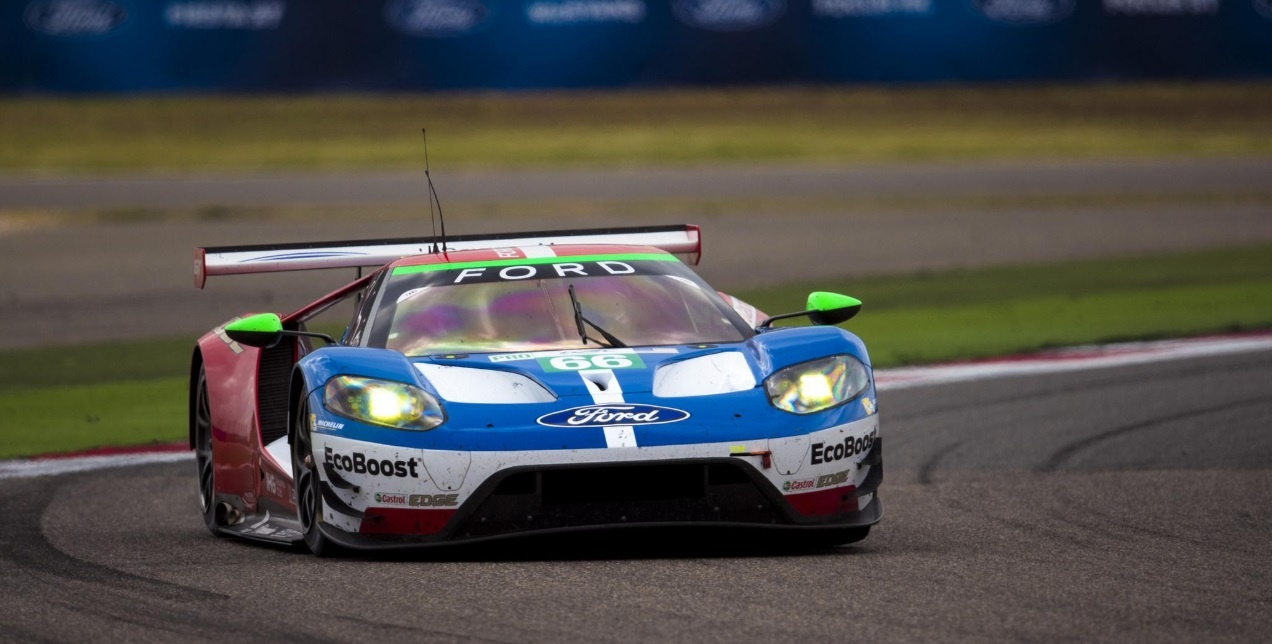racing car: (158, 195, 923, 557)
